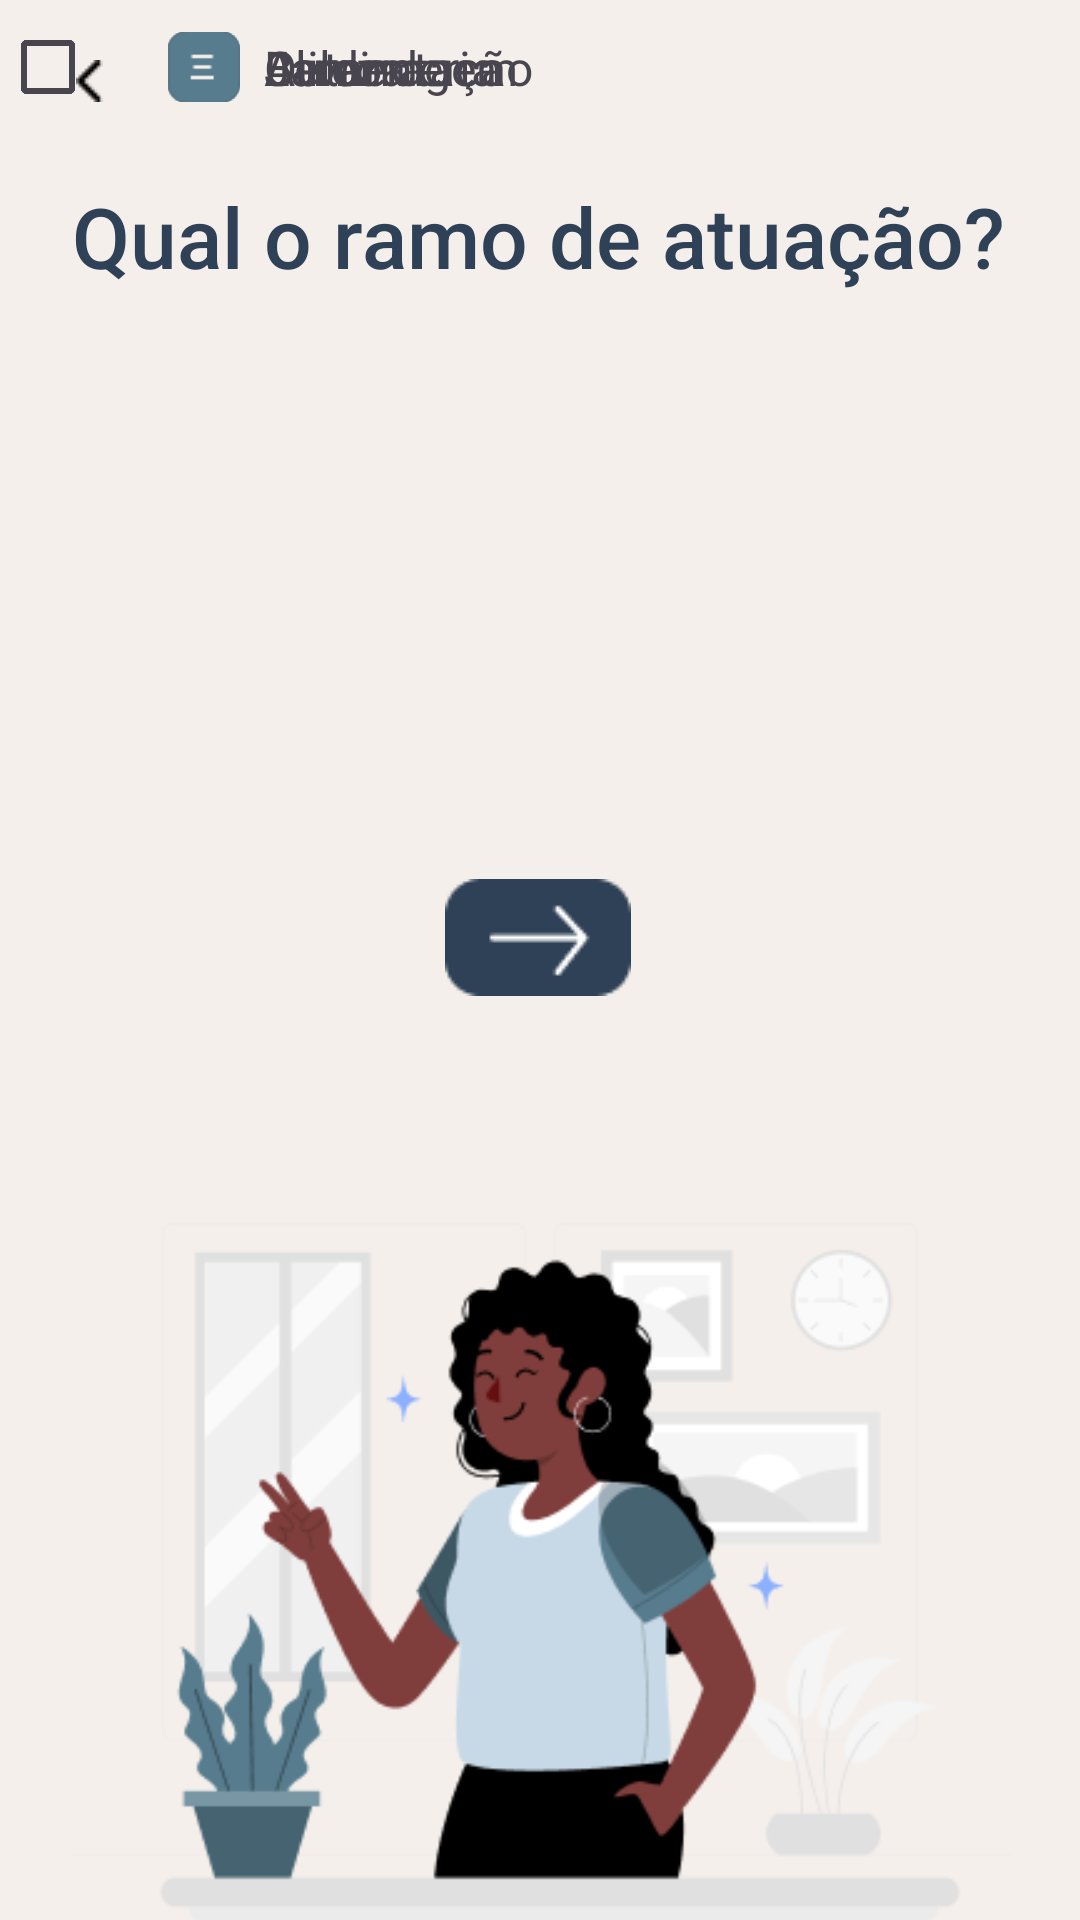

Where icons sit on this 1080×1920 app screen, as (x1, y1, x2, y2):
btnpassar: (445, 879, 631, 996)
